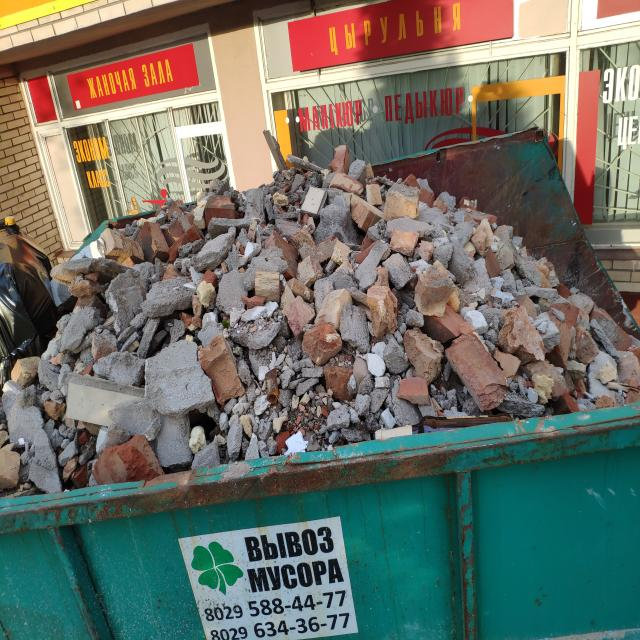entulho: (0, 216, 60, 373)
